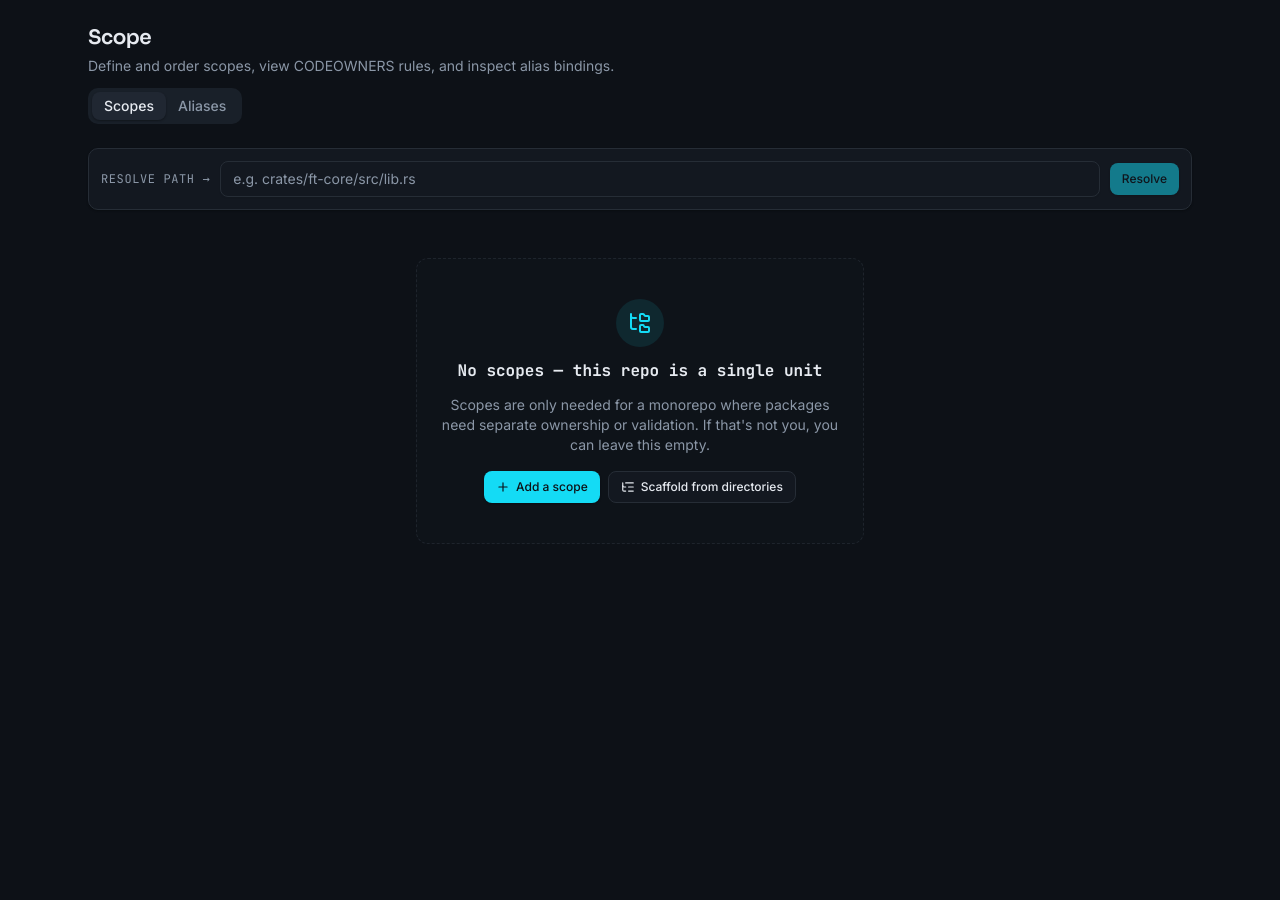
Scenario: scope authoring › scaffold helper lists directory candidates from /api/files?dirs=1
expect the element with test id "scope-empty-state" is shown: met, box left=416, top=258, right=864, bottom=544
Click the button with test id "scope-scaffold-open".
click(702, 486)  # box left=608, top=470, right=796, bottom=502
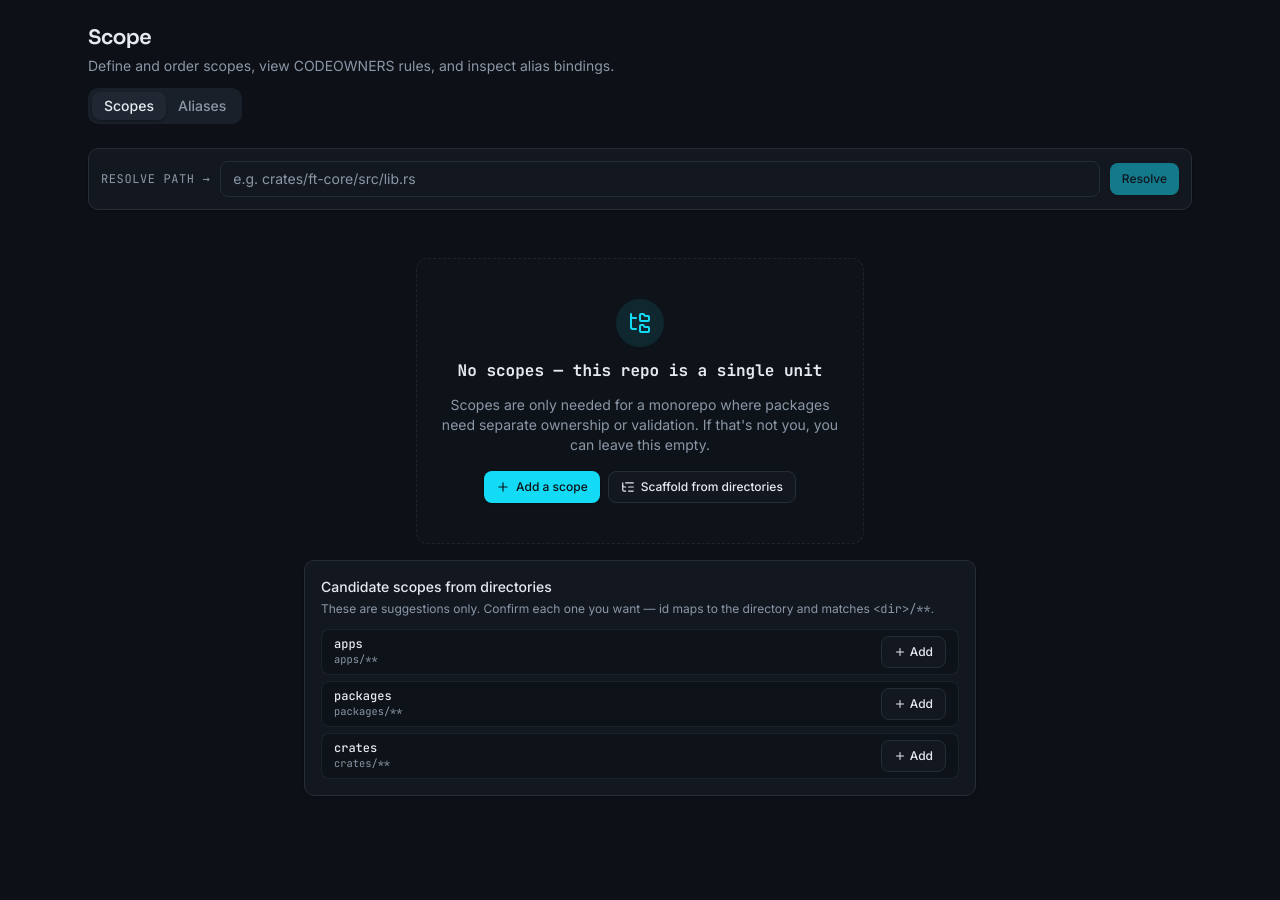
expect the list with test id "scope-scaffold-candidates" shows "apps": met, box left=334, top=636, right=363, bottom=652
expect the list with test id "scope-scaffold-candidates" shows "packages": met, box left=334, top=688, right=392, bottom=704
expect the list with test id "scope-scaffold-candidates" shows "crates": met, box left=334, top=740, right=377, bottom=756
